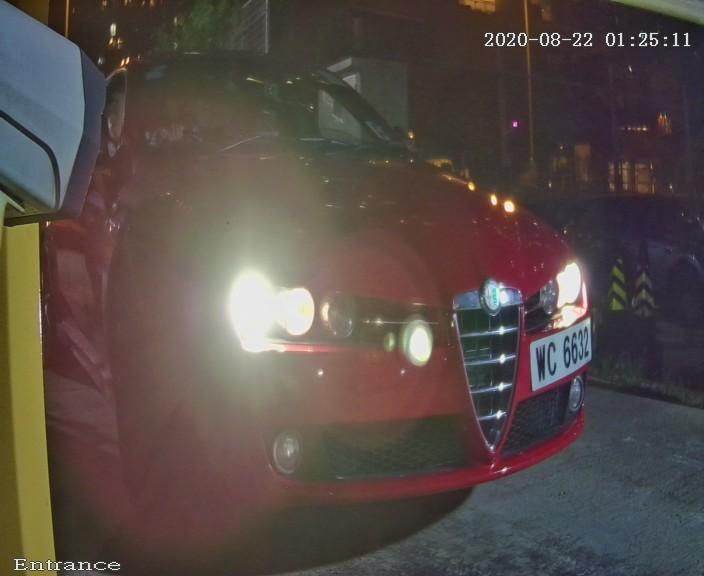Car: (35, 26, 642, 512)
License Plate: (517, 310, 604, 393)
